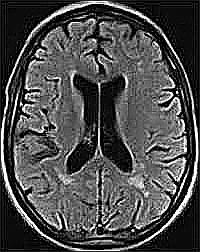Normal_Brain: (2, 1, 200, 252)
